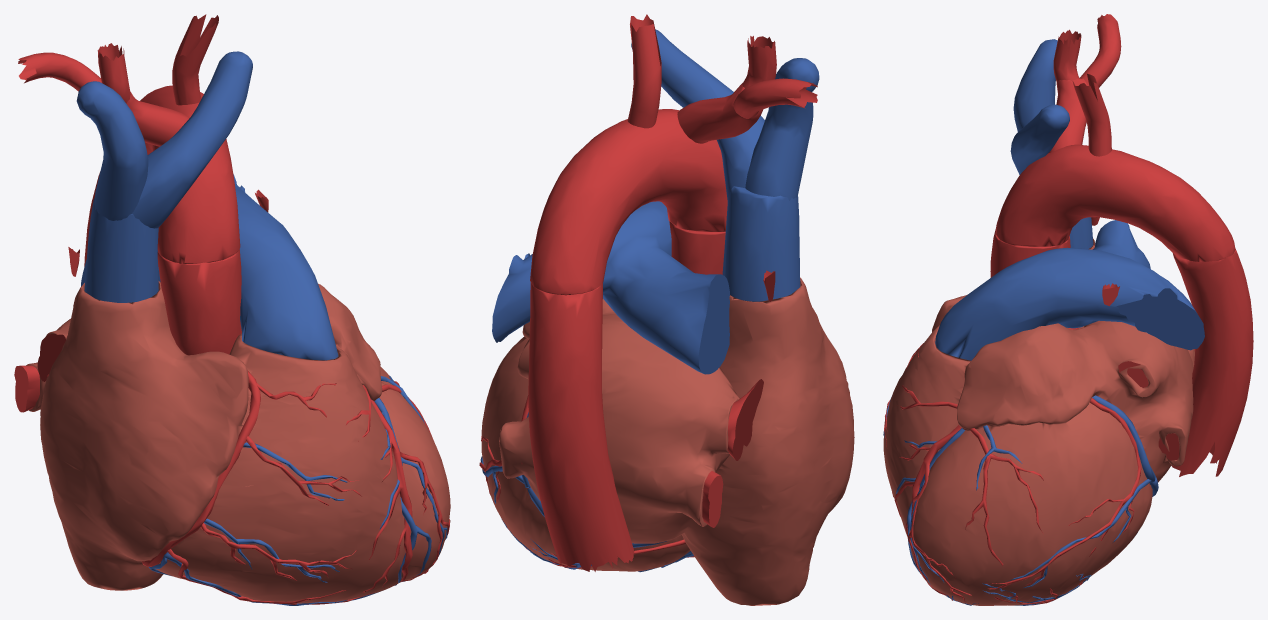
Rendered from heart-lite.mo.glb.
3 renders of one model, left to right at view 1: azimuth 30°, elevation 25°; view 2: azimuth 150°, elevation 25°; view 3: azimuth 270°, elevation 25°, orthographic. The views are drawn at different scales.
Parts seen in each view (by area): view 1: Heart_wall, Aorta_and_arch_branches, Venae_cavae, Pulmonary_arteries, Coronary_arteries, Cardiac_veins, Pulmonary_veins; view 2: Heart_wall, Aorta_and_arch_branches, Venae_cavae, Pulmonary_arteries, Pulmonary_veins, Cardiac_veins, Coronary_arteries; view 3: Heart_wall, Aorta_and_arch_branches, Pulmonary_arteries, Venae_cavae, Coronary_arteries, Cardiac_veins, Pulmonary_veins.
Part boxes in pixels (box(x1,y1,x2,y2)): Heart_wall: box(26, 281, 450, 603); Aorta_and_arch_branches: box(18, 14, 241, 355); Venae_cavae: box(76, 51, 252, 302); Pulmonary_arteries: box(81, 174, 338, 360); Coronary_arteries: box(141, 371, 450, 604); Cardiac_veins: box(149, 376, 447, 605); Pulmonary_veins: box(14, 189, 268, 412); Heart_wall: box(481, 277, 854, 605); Aorta_and_arch_branches: box(528, 14, 817, 571); Venae_cavae: box(631, 29, 819, 301); Pulmonary_arteries: box(492, 201, 729, 374); Pulmonary_veins: box(521, 270, 775, 527); Cardiac_veins: box(480, 412, 693, 572); Coronary_arteries: box(479, 395, 694, 568); Heart_wall: box(883, 238, 1194, 605); Aorta_and_arch_branches: box(990, 14, 1253, 476); Pulmonary_arteries: box(935, 220, 1204, 360); Venae_cavae: box(1010, 39, 1093, 248); Coronary_arteries: box(884, 343, 1141, 605); Cardiac_veins: box(883, 395, 1158, 605); Pulmonary_veins: box(1091, 217, 1195, 460).
Bounding box in the file's own units: 1.29 × 1.96 × 1.37.
